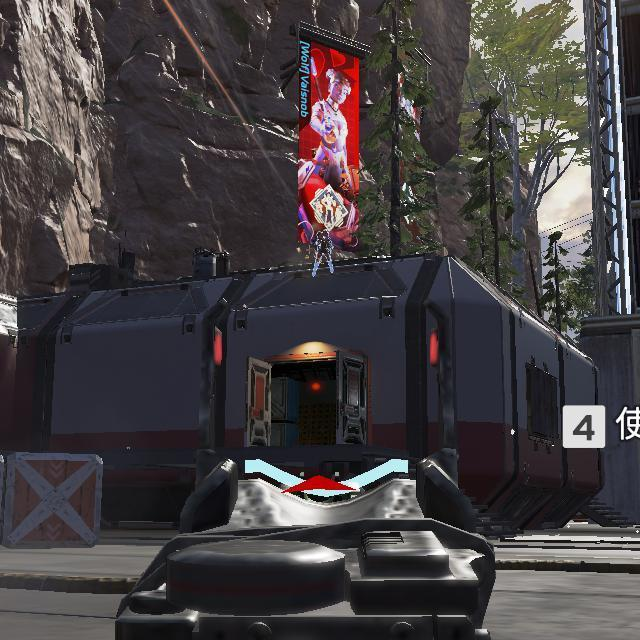avatar: (313, 229, 334, 263)
